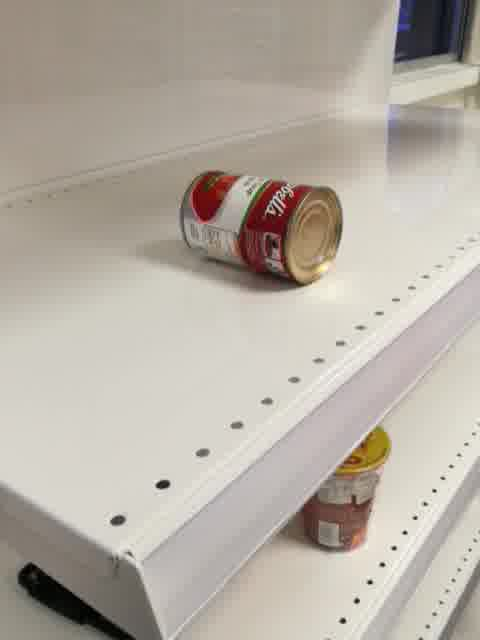tomatosoup: (177, 167, 346, 288)
